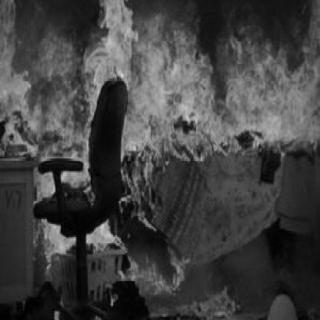Fire: (3, 2, 317, 296)
